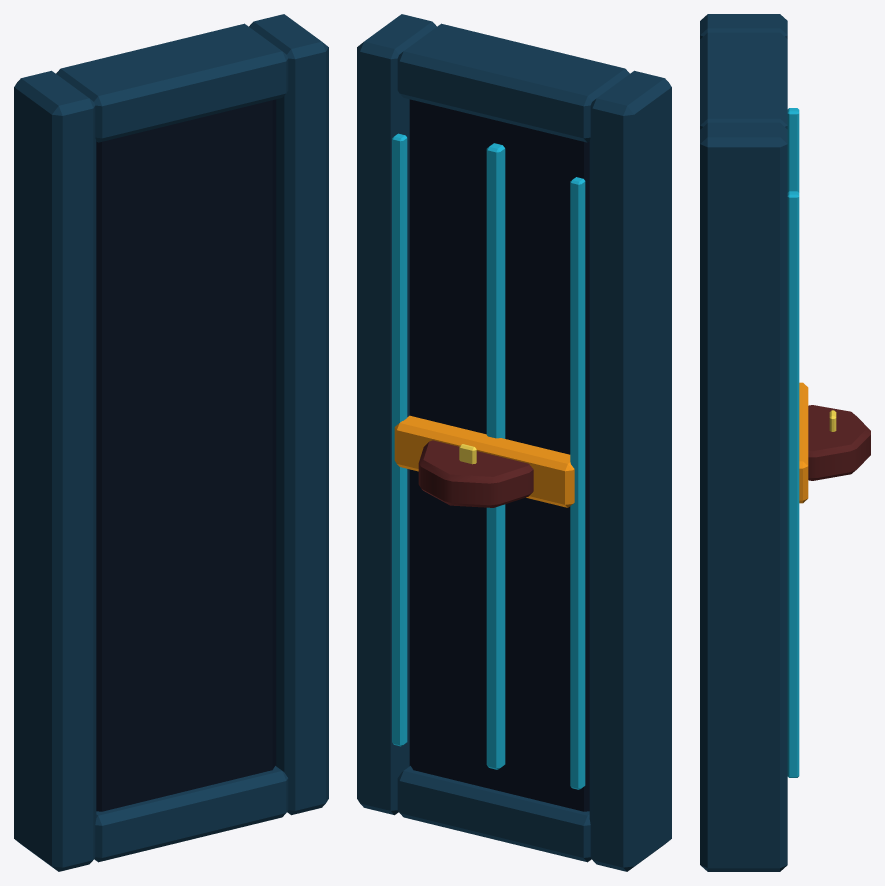
File: prism_locked_door.obj
3 renders of one model, left to right at view 1: azimuth 30°, elevation 25°; view 2: azimuth 150°, elevation 25°; view 3: azimuth 270°, elevation 25°, orthographic. The views are drawn at different scales.
Visible parts, largest first — view 1: PrismLockedDoor; view 2: PrismLockedDoor; view 3: PrismLockedDoor.
Part boxes in pixels (left/top/right/bottom): PrismLockedDoor: left=14, top=14, right=328, bottom=871; PrismLockedDoor: left=357, top=14, right=671, bottom=871; PrismLockedDoor: left=700, top=14, right=870, bottom=871.
Size of the model in its own units: 1.12 by 2.96 by 0.6231.
1 material, 1 textured.
